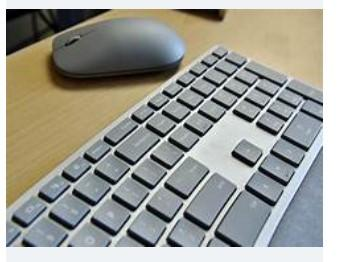Keyboard: (6, 45, 323, 247)
